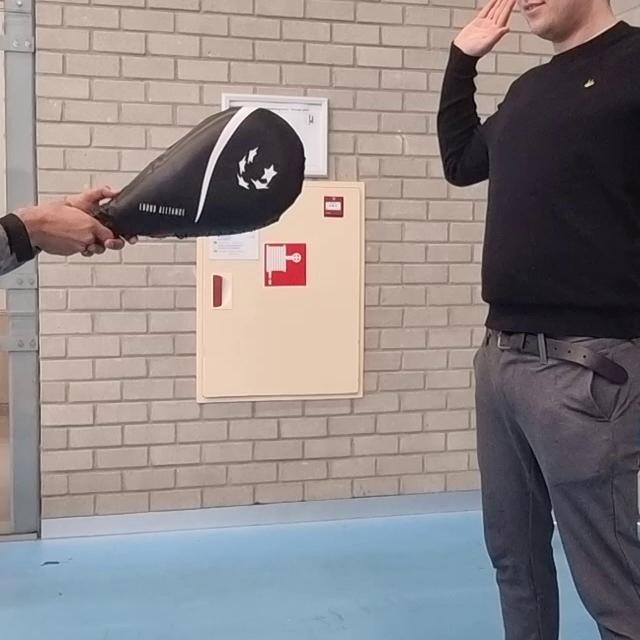paddle: (97, 105, 307, 238)
